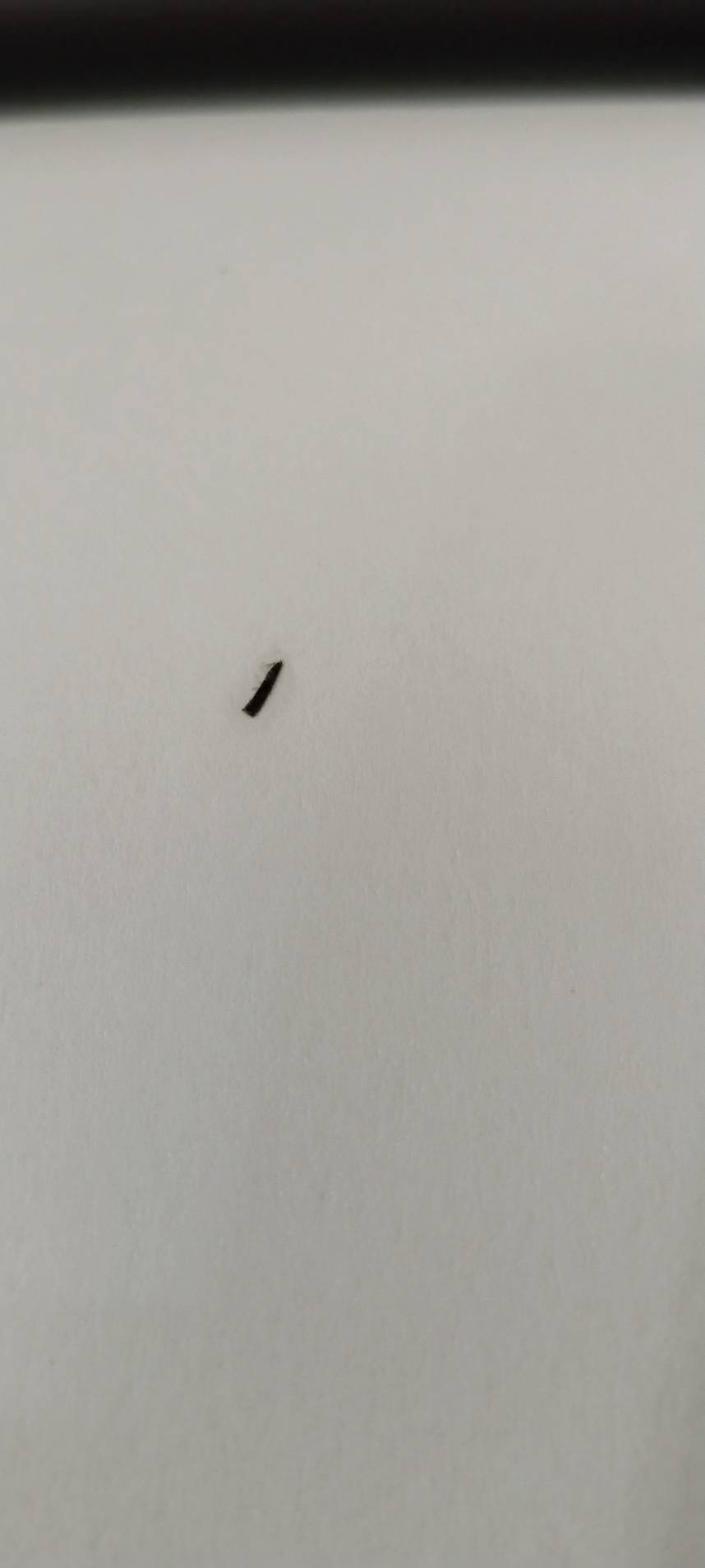contaminate: (234, 650, 297, 726)
